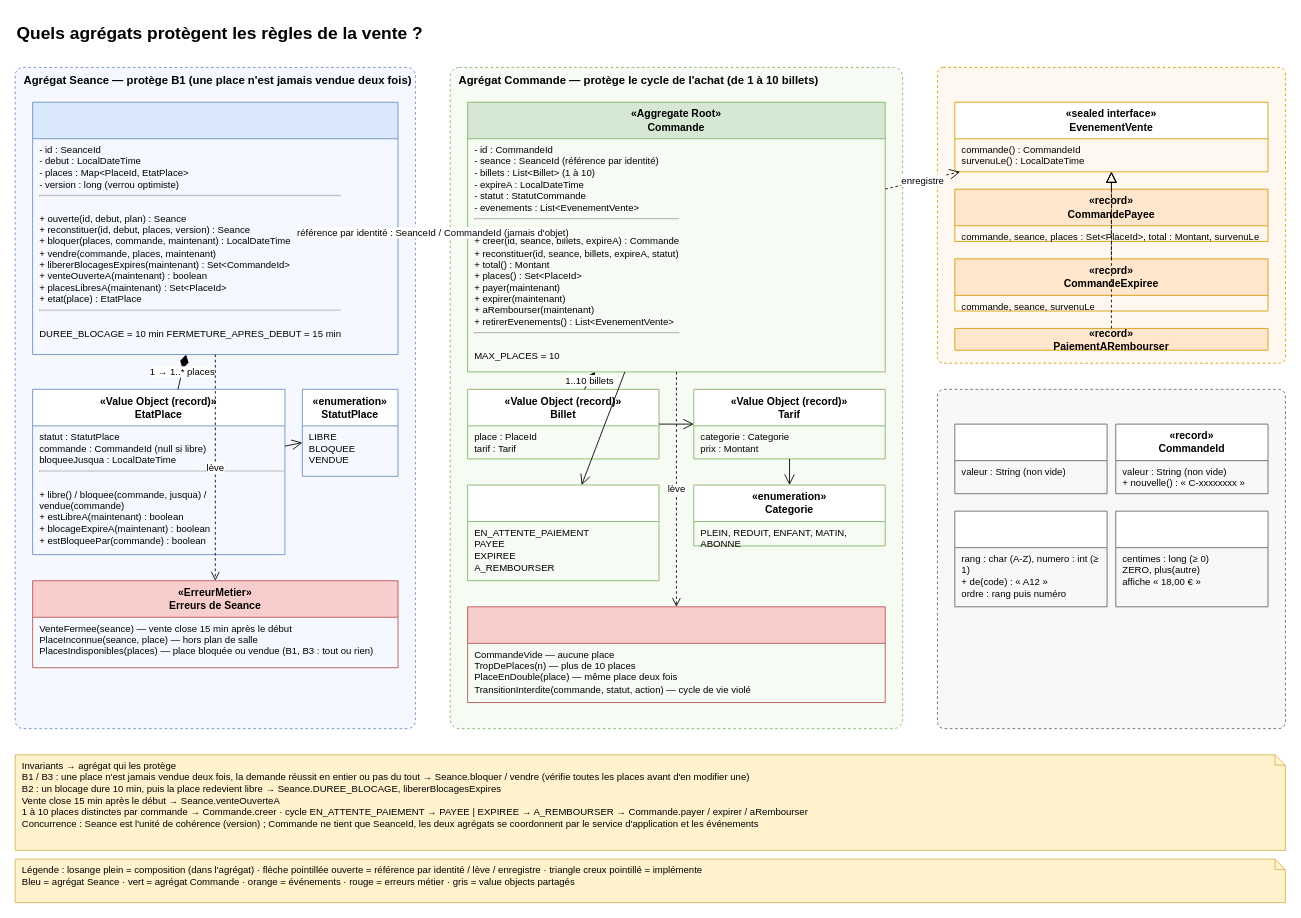
The diagram is 1301 pixels wide and 918 high, and some of its shapes have lost their labels. Here are the shapes that lost their labels. From the top down, the box of each, then its label:
(32, 101, 398, 355): «Aggregate Root» Seance
(937, 67, 1285, 363): Événements du domaine (enregistrés par Commande, jamais publiés par lui)
(954, 423, 1107, 494): «record» SeanceId
(467, 484, 659, 581): «enumeration» StatutCommande
(954, 510, 1107, 607): «record» PlaceId
(937, 388, 1285, 729): Value objects partagés (domaine/commun)
(1115, 510, 1268, 607): «record» Montant
(467, 606, 885, 703): «ErreurMetier» Erreurs de Commande
